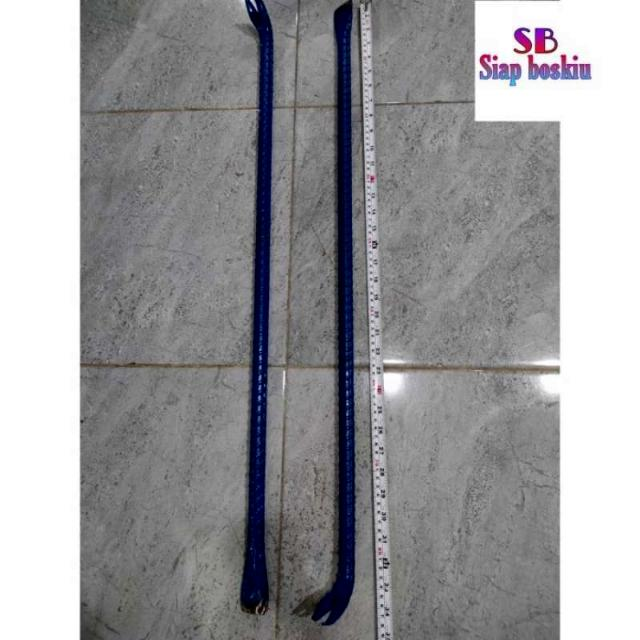crow bar: (307, 1, 357, 629), (237, 0, 275, 620)
